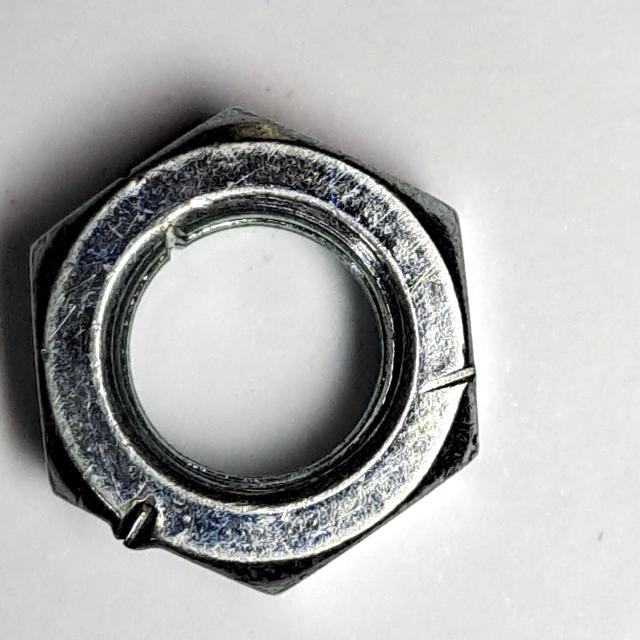Scratches: (23, 94, 497, 604)
